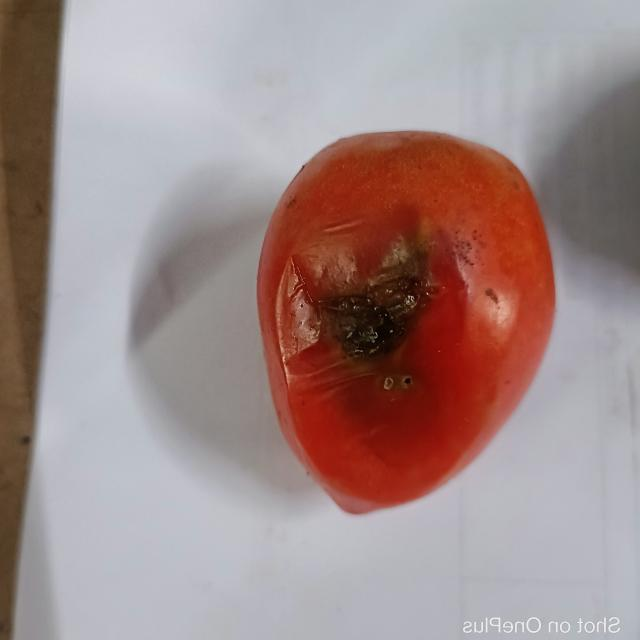Botrytis: (315, 252, 433, 358), (381, 372, 415, 392)
